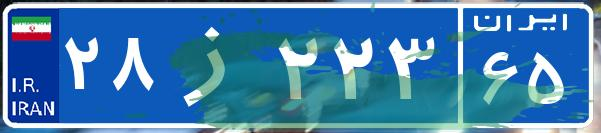2: (273, 28, 330, 110), (330, 28, 385, 110), (57, 26, 110, 107)
3: (385, 28, 445, 110)
5: (525, 38, 570, 115)
6: (475, 38, 525, 113)
8: (110, 28, 158, 105)
ز: (158, 15, 273, 115)
